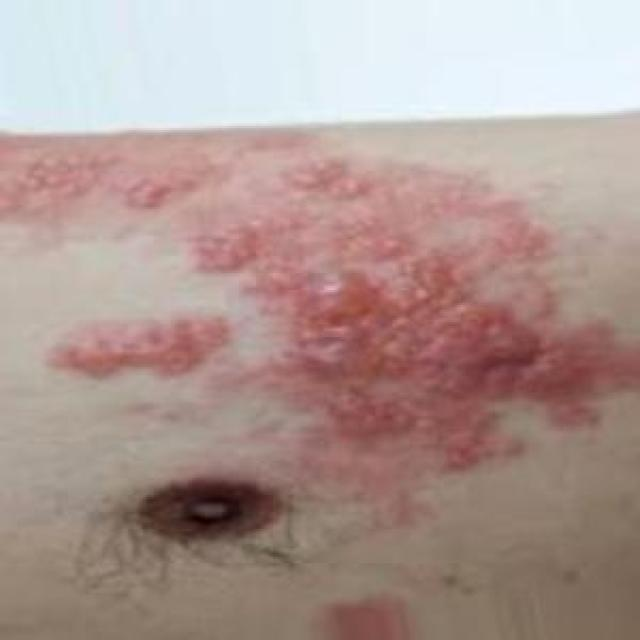Shingles: (24, 133, 619, 449)
